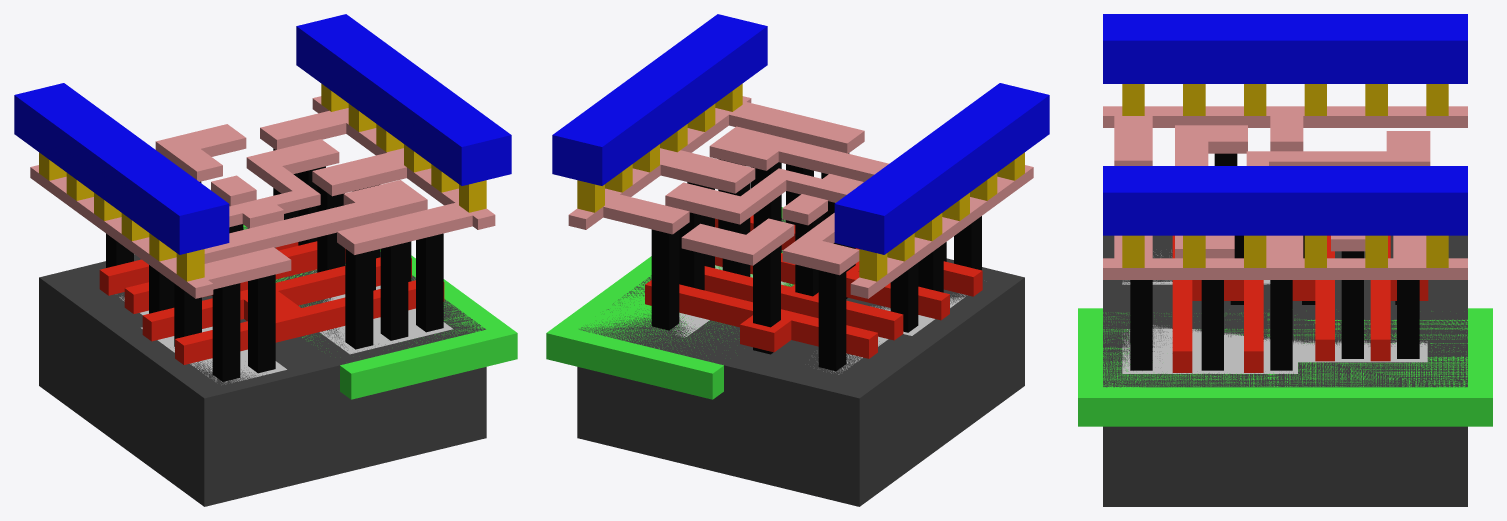
File: sky130_fd_sc_hd__and2_2.obj
3 views of the same model, side by side, from view 1: azimuth 30°, elevation 25°; view 2: azimuth 150°, elevation 25°; view 3: azimuth 270°, elevation 25° (orthographic). The views are drawn at different scales.
Visible parts, largest first — view 1: subs, metal1, li, licon, poly, nwell, mcon, tap, diff; view 2: subs, metal1, li, licon, poly, nwell, mcon, diff; view 3: metal1, subs, nwell, li, licon, mcon, poly, tap.
Boxes of the visible parts, x1,y1,x2,y2 form: subs: [39, 227, 486, 506]; metal1: [14, 14, 511, 254]; li: [30, 96, 495, 298]; licon: [106, 148, 443, 381]; poly: [99, 241, 444, 364]; nwell: [243, 225, 517, 399]; mcon: [39, 83, 486, 281]; tap: [307, 271, 453, 354]; diff: [119, 296, 286, 384]; subs: [577, 218, 1024, 506]; metal1: [552, 14, 1049, 254]; li: [568, 96, 1033, 298]; licon: [651, 153, 981, 371]; poly: [645, 215, 982, 358]; nwell: [546, 207, 793, 399]; mcon: [577, 83, 1024, 281]; diff: [823, 293, 967, 374]; metal1: [1103, 14, 1467, 235]; subs: [1103, 235, 1467, 506]; nwell: [1078, 308, 1492, 426]; li: [1103, 106, 1467, 279]; licon: [1130, 153, 1419, 370]; mcon: [1122, 84, 1448, 267]; poly: [1172, 235, 1428, 372]; tap: [1122, 325, 1427, 373].
Size of the model in its own units: 3.2 by 2.74 by 3.14.
